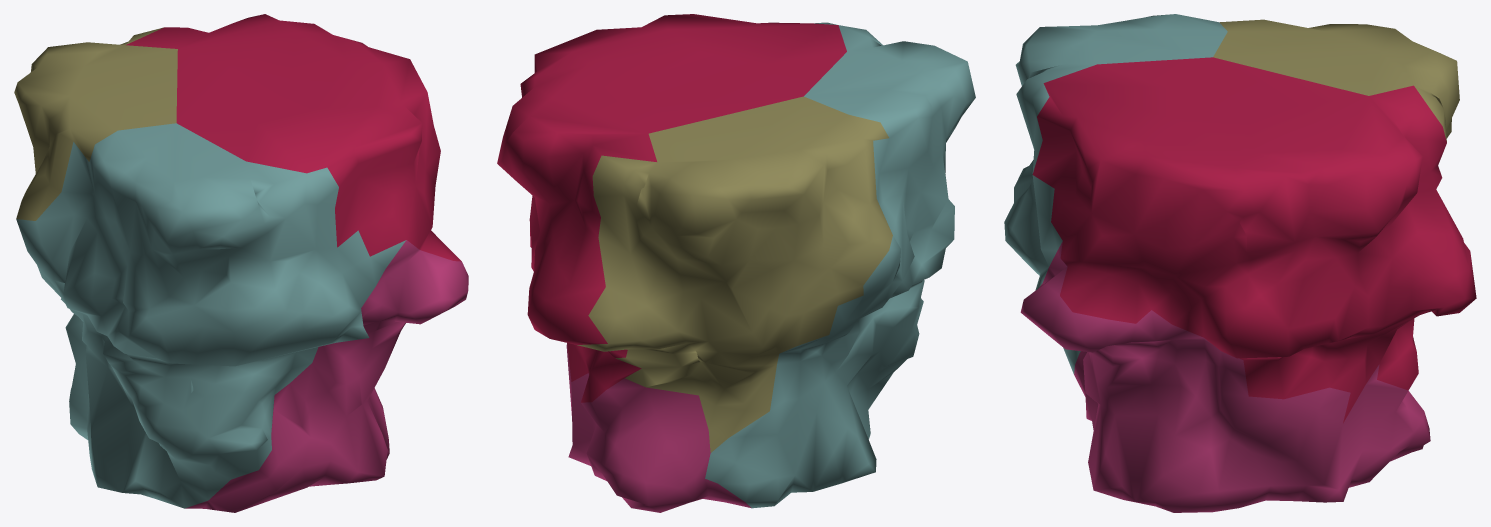
The model's file is island_02.fbx.
3 renders of one model, left to right at view 1: azimuth 30°, elevation 25°; view 2: azimuth 150°, elevation 25°; view 3: azimuth 270°, elevation 25°, orthographic. The views are drawn at different scales.
Parts seen in each view (by area): view 1: attribwrangle4; view 2: attribwrangle4; view 3: attribwrangle4.
Boxes of the visible parts, left/top/right/bottom form: attribwrangle4: left=14, top=14, right=468, bottom=512; attribwrangle4: left=497, top=14, right=975, bottom=512; attribwrangle4: left=1004, top=14, right=1476, bottom=512.
Bounding box in the file's own units: 5.47 × 5.02 × 5.82.
